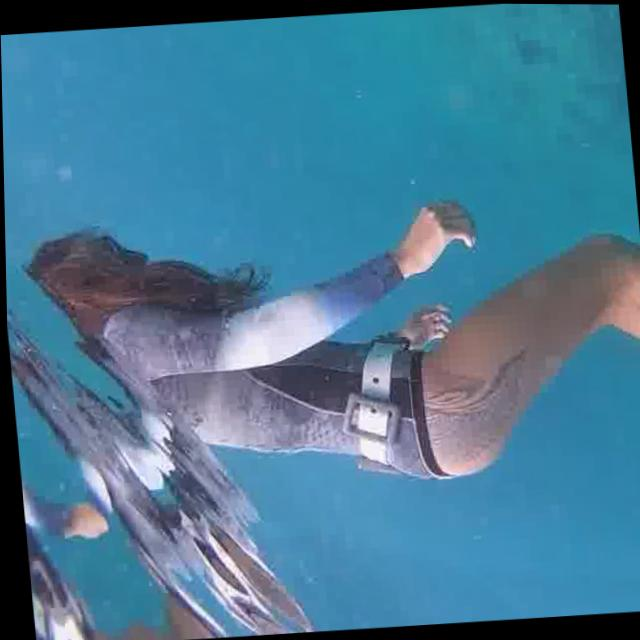human: (3, 181, 640, 517)
